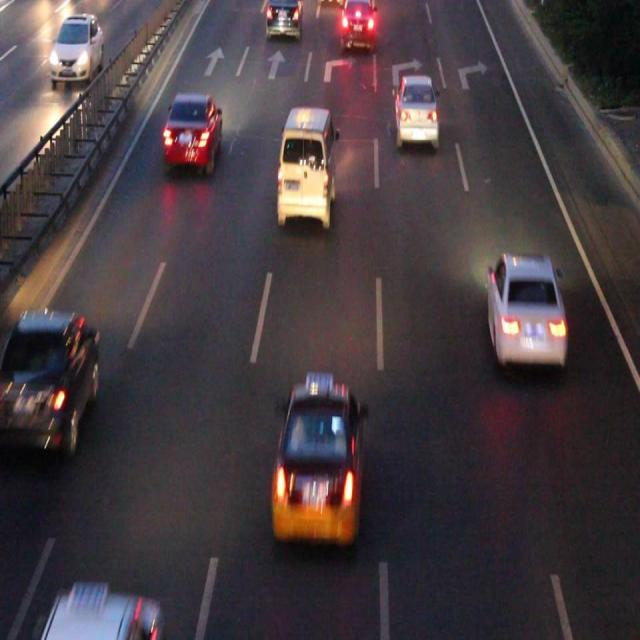car: (271, 384, 360, 540), (1, 310, 98, 449), (485, 254, 564, 364), (164, 94, 221, 168), (393, 79, 438, 146), (341, 1, 373, 50), (265, 1, 301, 36)
truck: (278, 107, 334, 221)
